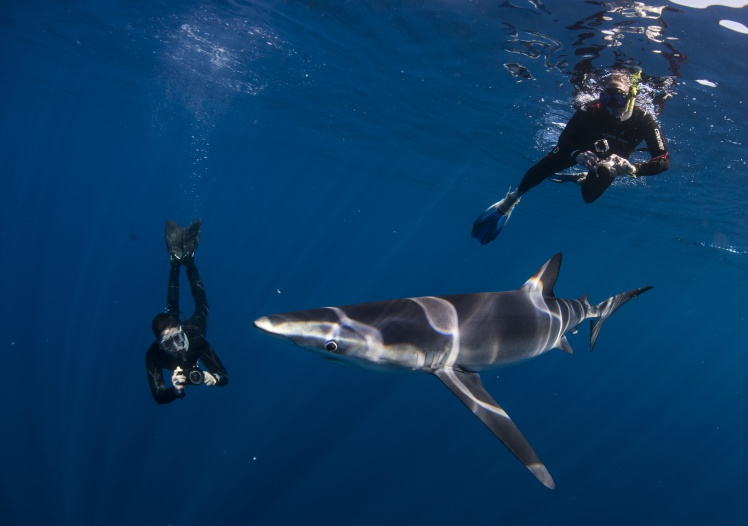Azul: (244, 247, 660, 495)
